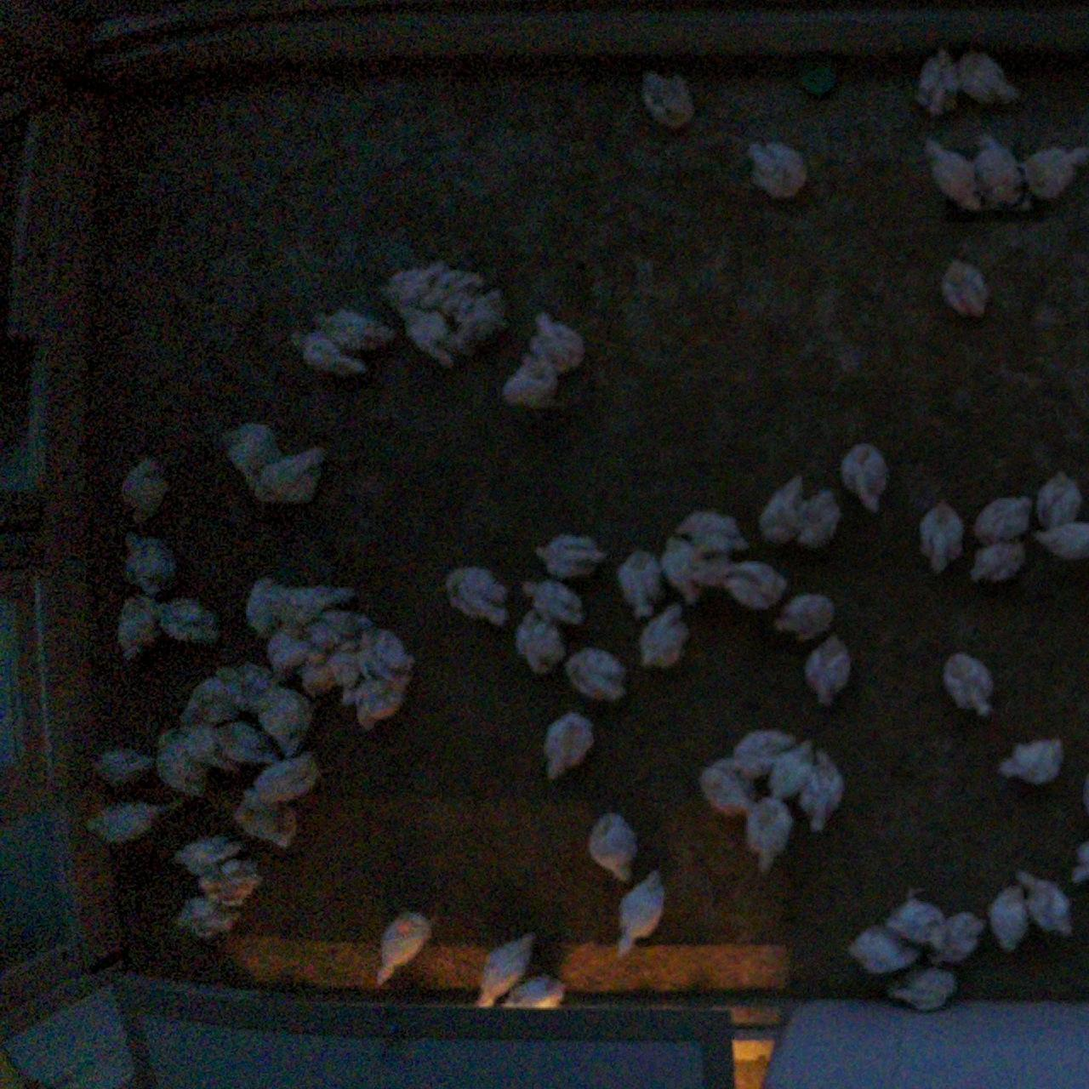chicken: (248, 437, 336, 511), (917, 132, 988, 220), (605, 866, 671, 960), (368, 902, 437, 991), (251, 680, 325, 760), (736, 134, 814, 208), (438, 558, 514, 632), (474, 925, 539, 1011), (584, 805, 644, 896), (231, 781, 307, 852), (907, 489, 969, 576), (1012, 864, 1081, 942), (840, 916, 925, 978), (79, 795, 164, 856), (635, 62, 704, 137), (954, 43, 1026, 112), (218, 415, 285, 489), (284, 325, 374, 380), (510, 604, 575, 680), (796, 743, 849, 836), (972, 128, 1028, 214), (801, 630, 858, 714), (833, 435, 892, 516), (248, 748, 325, 810), (396, 302, 465, 371), (739, 793, 795, 878), (538, 705, 600, 781), (518, 570, 590, 635), (533, 304, 595, 379), (881, 877, 949, 945), (154, 723, 213, 801), (936, 648, 996, 723), (675, 500, 750, 560), (1023, 137, 1089, 205), (754, 469, 808, 552), (989, 731, 1069, 787), (118, 523, 181, 594), (314, 305, 401, 356), (883, 961, 964, 1015), (341, 671, 415, 730), (529, 527, 611, 580), (936, 248, 996, 320), (712, 559, 795, 611), (116, 452, 174, 526), (167, 827, 249, 879), (107, 589, 162, 666), (910, 43, 962, 123), (493, 346, 561, 407), (154, 593, 228, 649), (80, 739, 161, 790), (720, 724, 800, 775), (170, 890, 250, 941), (770, 585, 839, 644), (611, 545, 665, 620), (792, 481, 844, 558), (660, 528, 710, 608), (694, 755, 756, 818), (450, 285, 511, 349), (566, 643, 631, 703), (354, 621, 418, 680), (765, 736, 821, 803), (638, 599, 690, 671), (197, 856, 266, 910), (175, 673, 241, 728), (214, 660, 285, 711), (381, 257, 448, 311), (971, 491, 1036, 546), (986, 878, 1033, 954), (277, 580, 359, 623), (964, 533, 1028, 588), (416, 264, 490, 311), (241, 570, 287, 645), (1030, 464, 1084, 527), (203, 714, 274, 760), (1027, 513, 1089, 565), (933, 909, 988, 966), (501, 968, 572, 1012), (259, 616, 310, 677), (312, 630, 357, 691), (298, 604, 372, 640)
